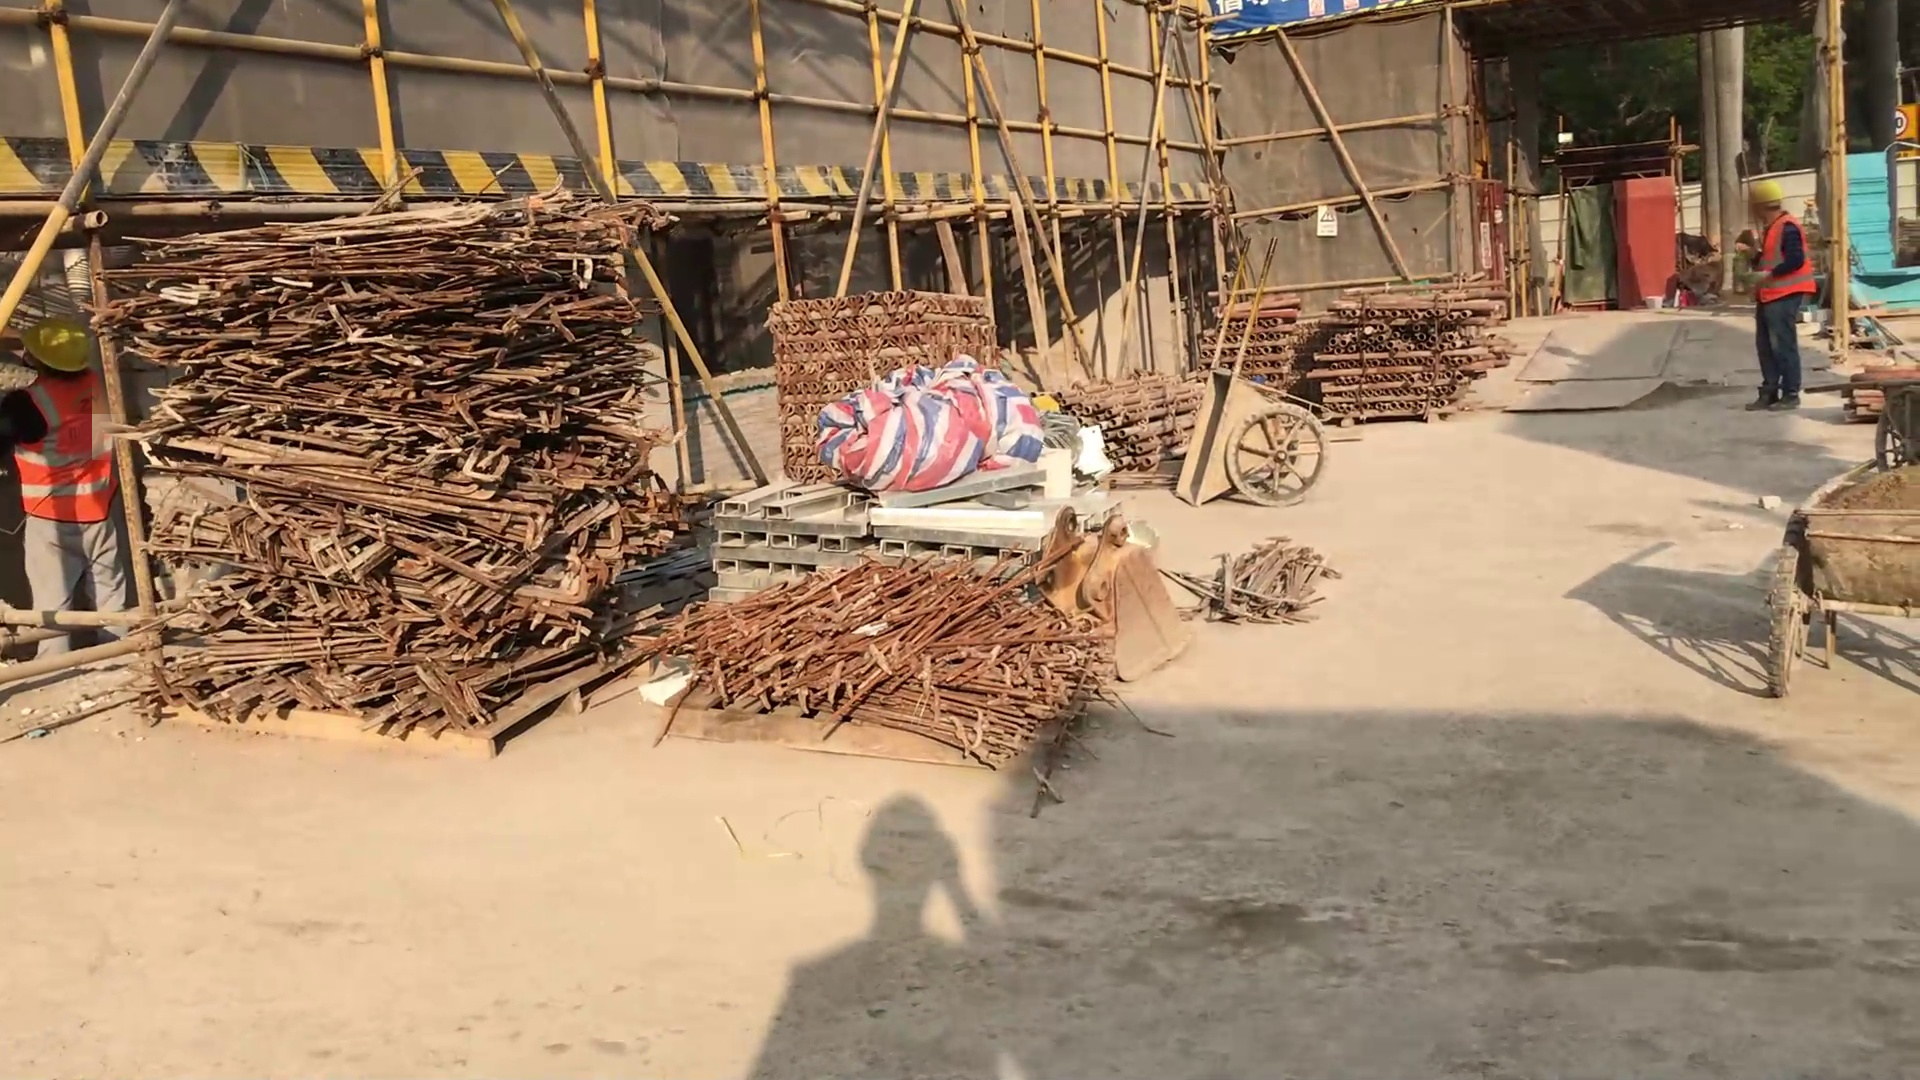handcart: (1172, 230, 1337, 511), (1758, 452, 1920, 705), (1847, 371, 1920, 476)
helmet: (16, 312, 97, 377), (1746, 177, 1787, 216)
person: (1, 309, 134, 663), (1743, 175, 1817, 415)
scaffold: (768, 291, 993, 484), (1318, 290, 1503, 421), (1062, 358, 1214, 471), (1201, 316, 1322, 396)
slogan: (1207, 1, 1427, 37), (1892, 105, 1920, 156), (1313, 200, 1339, 241)
vest: (12, 378, 121, 527), (1754, 217, 1816, 305)
